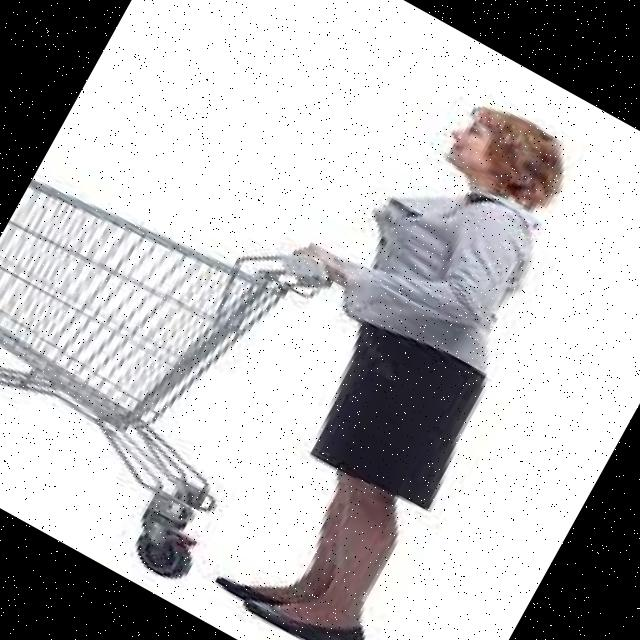Person: (134, 55, 622, 640)
